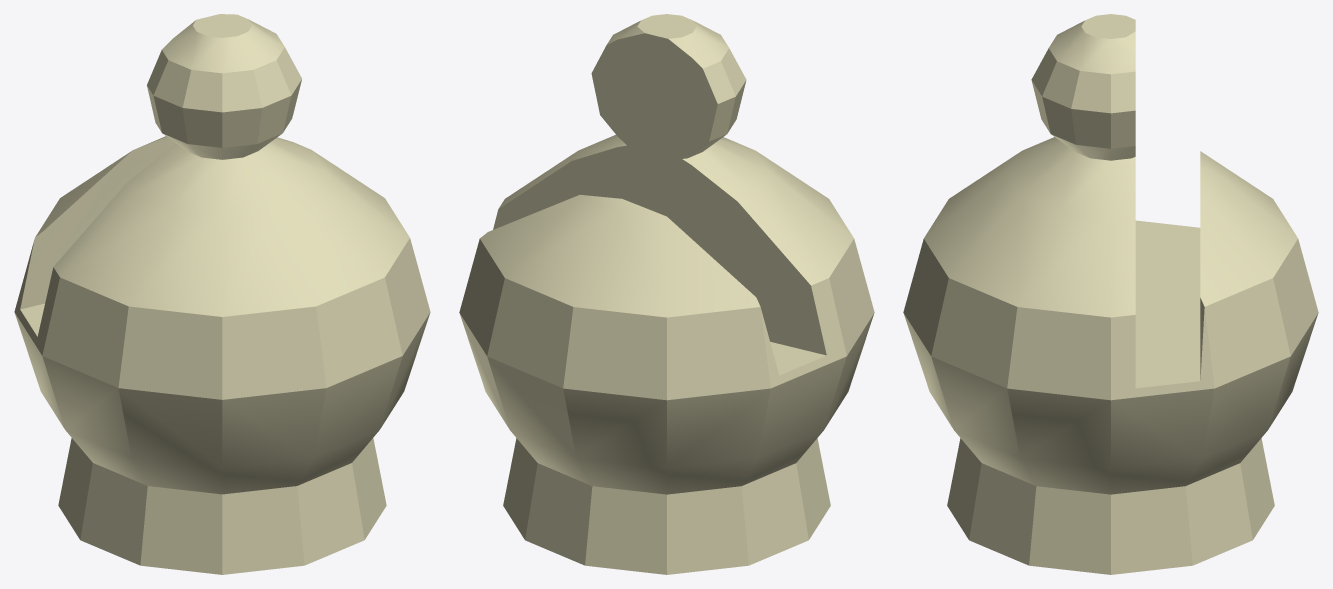
File: bishop_01.glb
3 views of the same model, side by side, from view 1: azimuth 30°, elevation 25°; view 2: azimuth 150°, elevation 25°; view 3: azimuth 270°, elevation 25° (orthographic).
Visible parts, largest first — view 1: bishop_01; view 2: bishop_01; view 3: bishop_01.
Boxes of the visible parts, x1,y1,x2,y2 form: bishop_01: (14, 14, 430, 574); bishop_01: (459, 14, 874, 574); bishop_01: (903, 14, 1318, 574).
Bounding box in the file's own units: 0.5283 × 0.6726 × 0.5283.
